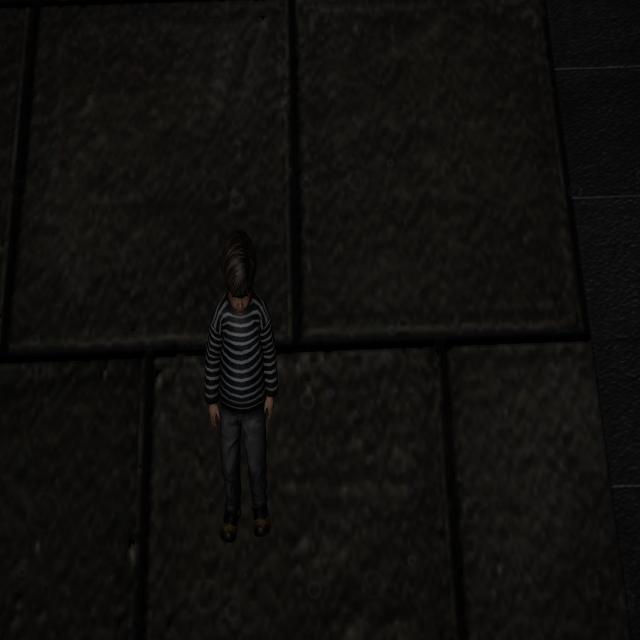Human: (197, 222, 285, 554)
